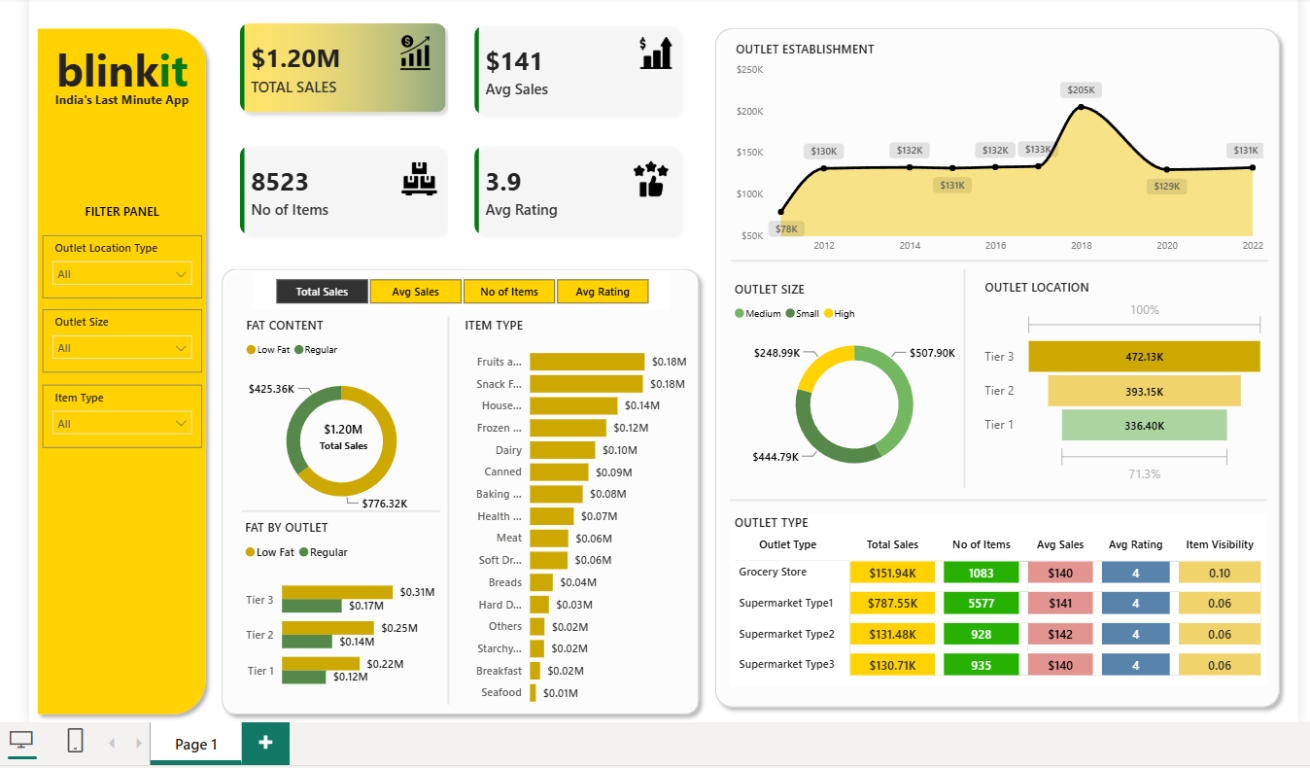

The dashboard page shown, as its layout file describes it:
{"tool":"powerbi","page":{"name":"Page 1","canvas":[1400,800],"ordinal":0},"visuals":[{"type":"shape","box":[0,25.5,203.8,774.8],"z":0},{"type":"textbox","box":[15,42,175.6,75],"z":1000},{"type":"textbox","box":[15,99.1,175.6,36],"z":2000},{"type":"cardVisual","fields":{"Data":["BlinkIT Grocery Data.Total Sales"]},"box":[204.1,0,285.2,156.1],"z":3000},{"type":"cardVisual","fields":{"Data":["BlinkIT Grocery Data.No of Items"]},"box":[204.1,135.1,285.2,156.1],"z":4000},{"type":"cardVisual","fields":{"Data":["BlinkIT Grocery Data.Avg Sales"]},"box":[462.3,3,285.2,156.1],"z":5000},{"type":"cardVisual","fields":{"Data":["BlinkIT Grocery Data.Avg Rating"]},"box":[462.3,135.1,285.2,156.1],"z":6000},{"type":"image","box":[398.1,41.6,56.3,38.9],"z":7000},{"type":"image","box":[672.9,42.9,37.5,37.5],"z":8000},{"type":"image","box":[397.7,181.6,64.5,39],"z":9000},{"type":"image","box":[661.9,181.6,48,39],"z":10000},{"type":"shape","box":[203.8,290.9,544.2,509.4],"z":11000},{"type":"slicer","fields":{"Values":["Metrics.Metrics"]},"box":[246.7,304.3,461.1,40.2],"z":12000},{"type":"donutChart","title":"FAT CONTENT","fields":{"Y":["BlinkIT Grocery Data.Total Sales"],"Category":["BlinkIT Grocery Data.Item Fat Content"]},"box":[234.1,352.7,220.6,229.6],"z":13000},{"type":"cardVisual","fields":{"Data":["BlinkIT Grocery Data.Total Sales"]},"box":[290.9,450.4,112.6,67],"z":14000},{"type":"clusteredBarChart","title":"FAT BY OUTLET","fields":{"Y":["BlinkIT Grocery Data.Total Sales"],"Category":["BlinkIT Grocery Data.Outlet Location Type"],"Series":["BlinkIT Grocery Data.Item Fat Content"]},"box":[233.2,575.1,219.8,205.1],"z":15000},{"type":"shape","box":[234.6,538.9,218.5,56.3],"z":16000},{"type":"shape","box":[423.2,352.7,78,427.7],"z":17000},{"type":"barChart","title":"ITEM TYPE","fields":{"Y":["BlinkIT Grocery Data.Total Sales"],"Category":["BlinkIT Grocery Data.Item Type"]},"box":[475.8,352.7,255.1,439.8],"z":18000},{"type":"shape","box":[747.4,25.5,640.9,766.9],"z":19000},{"type":"lineChart","title":"OUTLET ESTABLISHMENT ","fields":{"Category":["BlinkIT Grocery Data.Outlet Establishment Year"],"Y":["BlinkIT Grocery Data.Total Sales"]},"box":[774.8,48.3,592.5,242.6],"z":20000},{"type":"shape","box":[774.8,262.7,592.5,56.3],"z":21000},{"type":"donutChart","title":"OUTLET SIZE","fields":{"Y":["BlinkIT Grocery Data.Total Sales"],"Category":["BlinkIT Grocery Data.Outlet Size"]},"box":[773.5,312.3,274.8,229.2],"z":22000},{"type":"shape","box":[993.3,300.3,77.7,241.3],"z":23000},{"type":"funnel","title":"OUTLET LOCATION","fields":{"Category":["BlinkIT Grocery Data.Outlet Location Type"],"Y":["Sum(BlinkIT Grocery Data.Sales)"]},"box":[1049.6,311,319,229.2],"z":24000},{"type":"shape","box":[773.5,526.8,592.5,56.3],"z":25000},{"type":"pivotTable","title":"OUTLET TYPE","fields":{"Rows":["BlinkIT Grocery Data.Outlet Type"],"Values":["BlinkIT Grocery Data.Total Sales","BlinkIT Grocery Data.No of Items","BlinkIT Grocery Data.Avg Sales","BlinkIT Grocery Data.Avg Rating","Avg(BlinkIT Grocery Data.Item Visibility)"]},"box":[773.5,569.7,592.5,190.3],"z":26000},{"type":"slicer","fields":{"Values":["BlinkIT Grocery Data.Outlet Location Type"]},"box":[14.7,262.7,175.6,69.7],"z":27000},{"type":"slicer","fields":{"Values":["BlinkIT Grocery Data.Outlet Size"]},"box":[14.7,344.5,175.6,69.7],"z":28000},{"type":"slicer","fields":{"Values":["BlinkIT Grocery Data.Item Type"]},"box":[14.7,427.6,175.6,69.7],"z":29000},{"type":"textbox","box":[37.5,222.5,130,34.9],"z":30000}]}

Visuals, with their boxes on the page's 1400x800 design canvas (x1, y1, x2, y2). These are canvas units, not pixel positions in the 1310x768 screenshot, which may show the page scaled, cropped or inside an application window:
shape: x1=0 y1=26 x2=204 y2=800
textbox: x1=15 y1=42 x2=191 y2=117
textbox: x1=15 y1=99 x2=191 y2=135
cardVisual - BlinkIT Grocery Data.Total Sales: x1=204 y1=0 x2=489 y2=156
cardVisual - BlinkIT Grocery Data.No of Items: x1=204 y1=135 x2=489 y2=291
cardVisual - BlinkIT Grocery Data.Avg Sales: x1=462 y1=3 x2=748 y2=159
cardVisual - BlinkIT Grocery Data.Avg Rating: x1=462 y1=135 x2=748 y2=291
image: x1=398 y1=42 x2=454 y2=80
image: x1=673 y1=43 x2=710 y2=80
image: x1=398 y1=182 x2=462 y2=221
image: x1=662 y1=182 x2=710 y2=221
shape: x1=204 y1=291 x2=748 y2=800
slicer - Metrics.Metrics: x1=247 y1=304 x2=708 y2=344
"FAT CONTENT" donutChart: x1=234 y1=353 x2=455 y2=582
cardVisual - BlinkIT Grocery Data.Total Sales: x1=291 y1=450 x2=404 y2=517
"FAT BY OUTLET" clusteredBarChart: x1=233 y1=575 x2=453 y2=780
shape: x1=235 y1=539 x2=453 y2=595
shape: x1=423 y1=353 x2=501 y2=780
"ITEM TYPE" barChart: x1=476 y1=353 x2=731 y2=792
shape: x1=747 y1=26 x2=1388 y2=792
"OUTLET ESTABLISHMENT " lineChart: x1=775 y1=48 x2=1367 y2=291
shape: x1=775 y1=263 x2=1367 y2=319
"OUTLET SIZE" donutChart: x1=774 y1=312 x2=1048 y2=542
shape: x1=993 y1=300 x2=1071 y2=542
"OUTLET LOCATION" funnel: x1=1050 y1=311 x2=1369 y2=540
shape: x1=774 y1=527 x2=1366 y2=583
"OUTLET TYPE" pivotTable: x1=774 y1=570 x2=1366 y2=760
slicer - BlinkIT Grocery Data.Outlet Location Type: x1=15 y1=263 x2=190 y2=332
slicer - BlinkIT Grocery Data.Outlet Size: x1=15 y1=344 x2=190 y2=414
slicer - BlinkIT Grocery Data.Item Type: x1=15 y1=428 x2=190 y2=497
textbox: x1=38 y1=222 x2=168 y2=257
